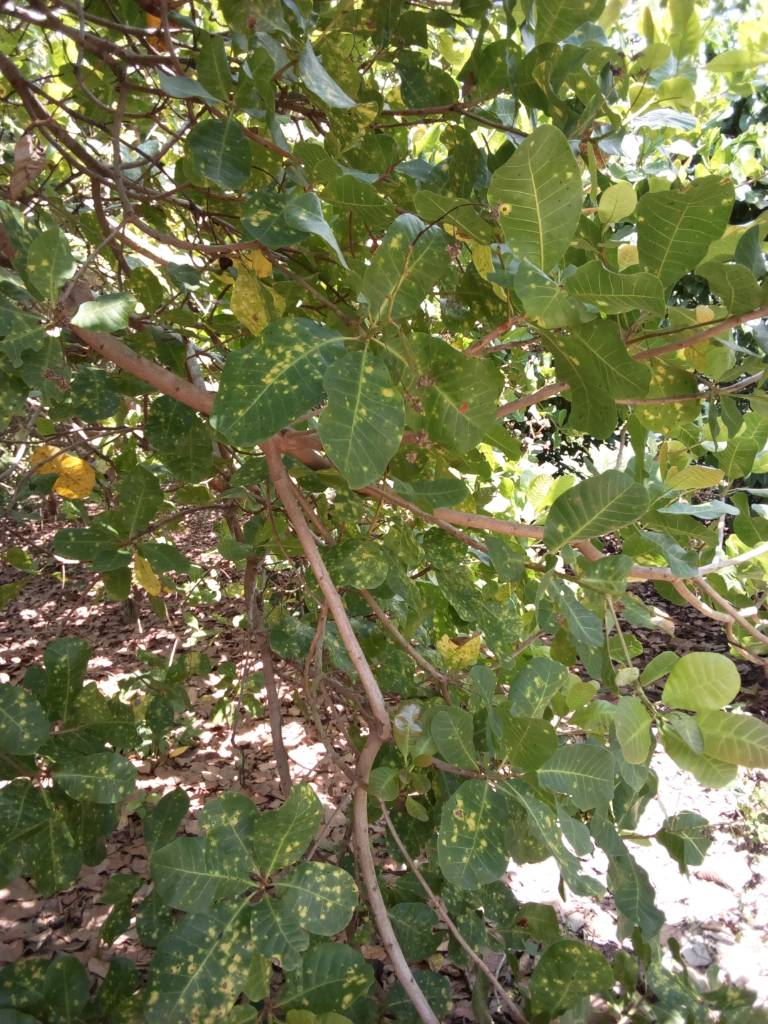Alternariose: (215, 319, 350, 442), (149, 913, 254, 1024), (325, 349, 405, 485), (436, 782, 516, 896), (265, 942, 377, 1019), (525, 942, 613, 1021), (274, 861, 357, 941), (252, 788, 318, 882), (225, 250, 280, 333), (54, 750, 136, 805), (1, 685, 50, 761), (329, 538, 391, 588)
